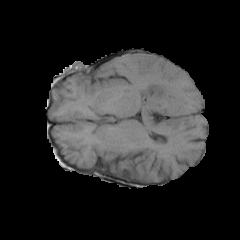glioma: (126, 82, 173, 112)
